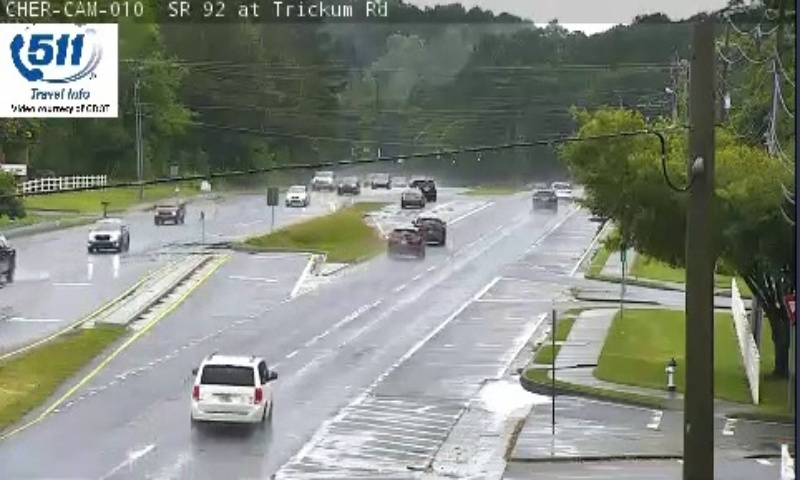car: (190, 353, 272, 422), (387, 227, 422, 258), (414, 216, 446, 245)
